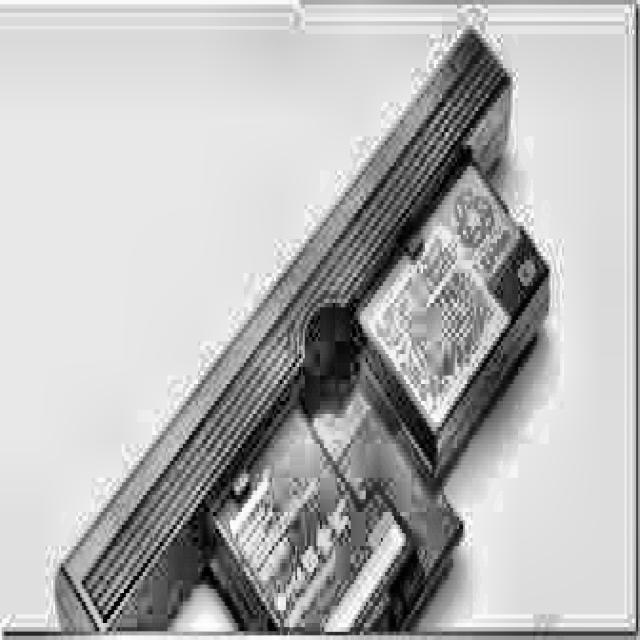Battery: (57, 30, 549, 640)
